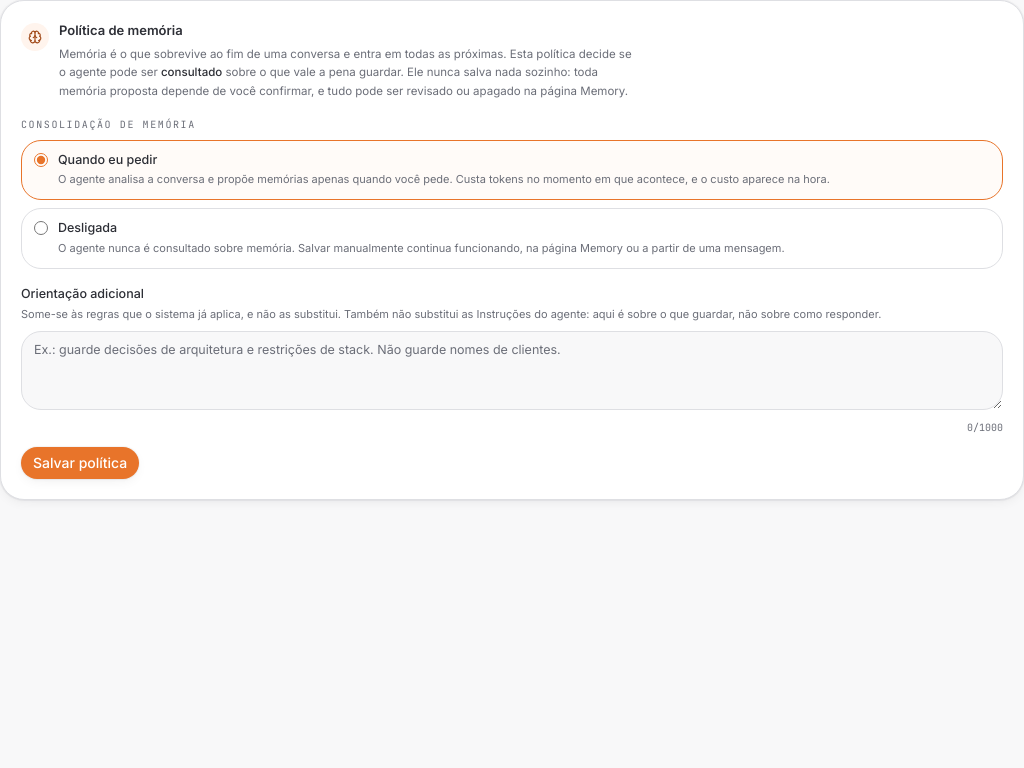
Test: MemoryPolicyCard › keeps the draft and shows why when the save fails
Type "não perder isto" into the text box labelled "Orientação adicional" at (512, 371), box [21, 331, 1003, 410]
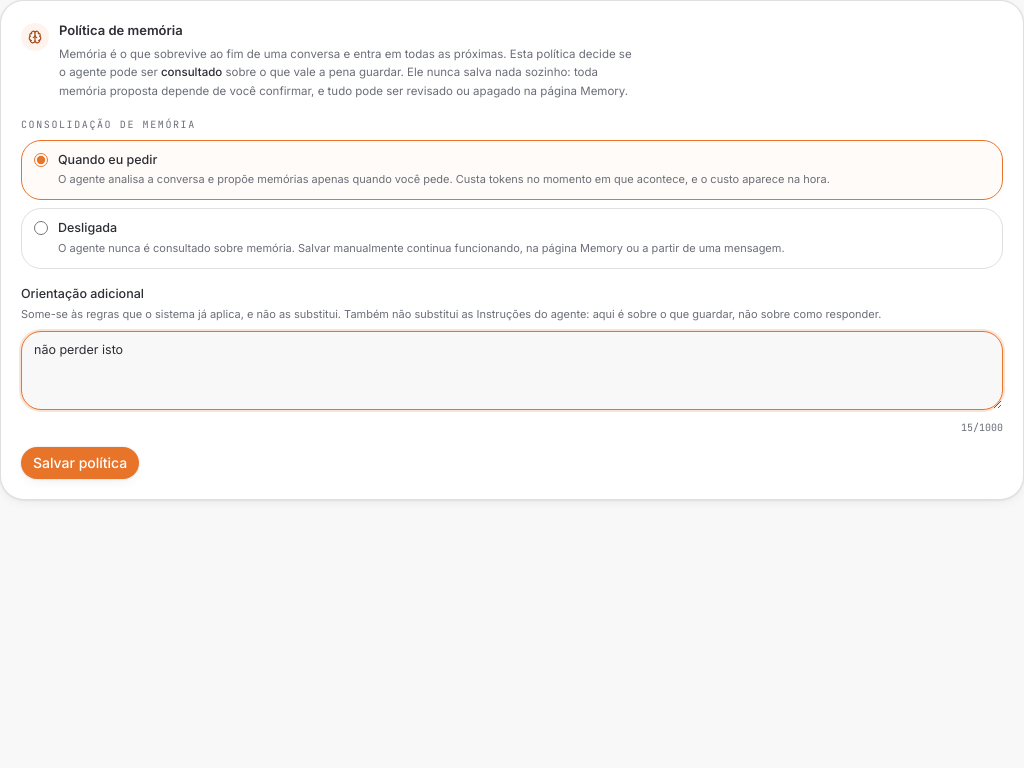
Click the button "Salvar política" at (80, 463), box [21, 447, 139, 479]
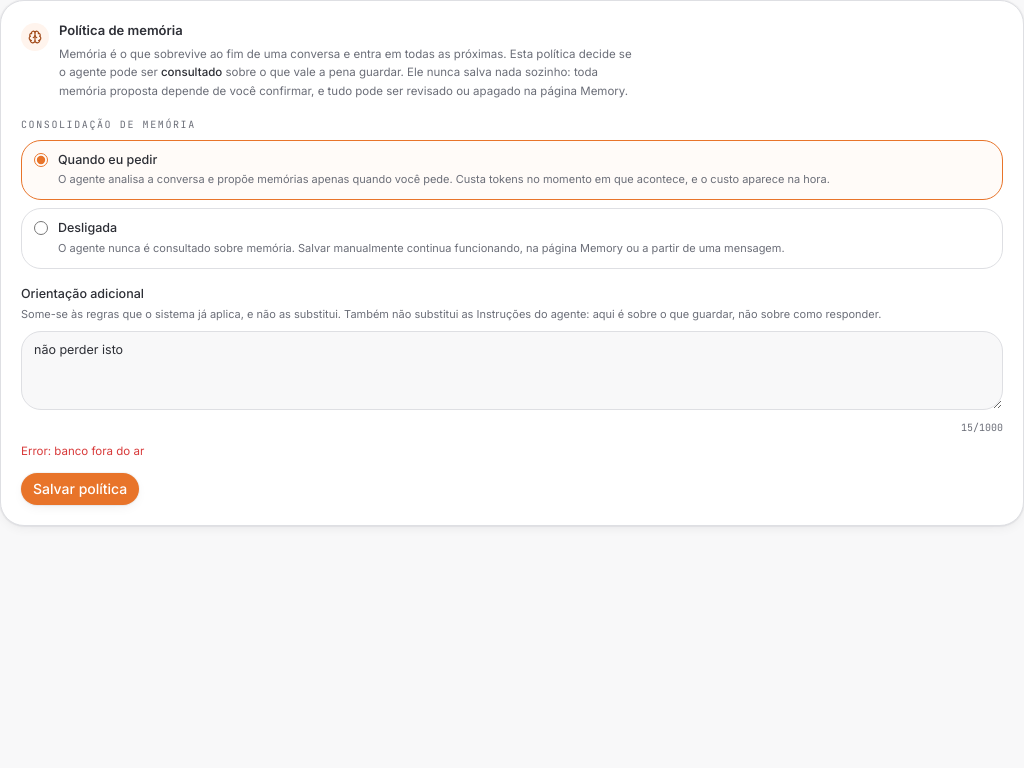
expect the text "Error: banco fora do ar" is shown: met, box [21, 444, 144, 458]
